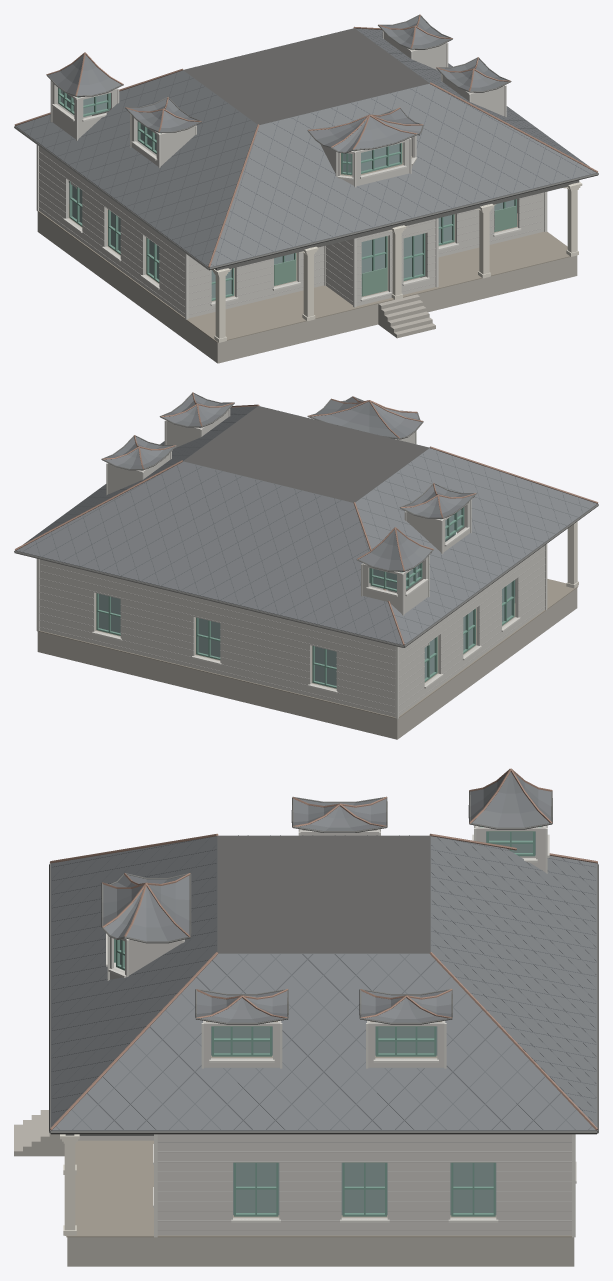
Rendered from xuhui-fenyang-customs-club-lod.glb.
3 views of the same model, one above another, from view 1: azimuth 30°, elevation 25°; view 2: azimuth 150°, elevation 25°; view 3: azimuth 270°, elevation 25° (orthographic). The views are drawn at different scales.
Parts seen in each view (by area): view 1: 海关俱乐部木屋; view 2: 海关俱乐部木屋; view 3: 海关俱乐部木屋.
Boxes of the visible parts, x1,y1,x2,y2 form: 海关俱乐部木屋: [14, 14, 598, 363]; 海关俱乐部木屋: [14, 392, 598, 739]; 海关俱乐部木屋: [14, 768, 598, 1266].
Bounding box in the file's own units: 19.33 × 8.97 × 17.78.
